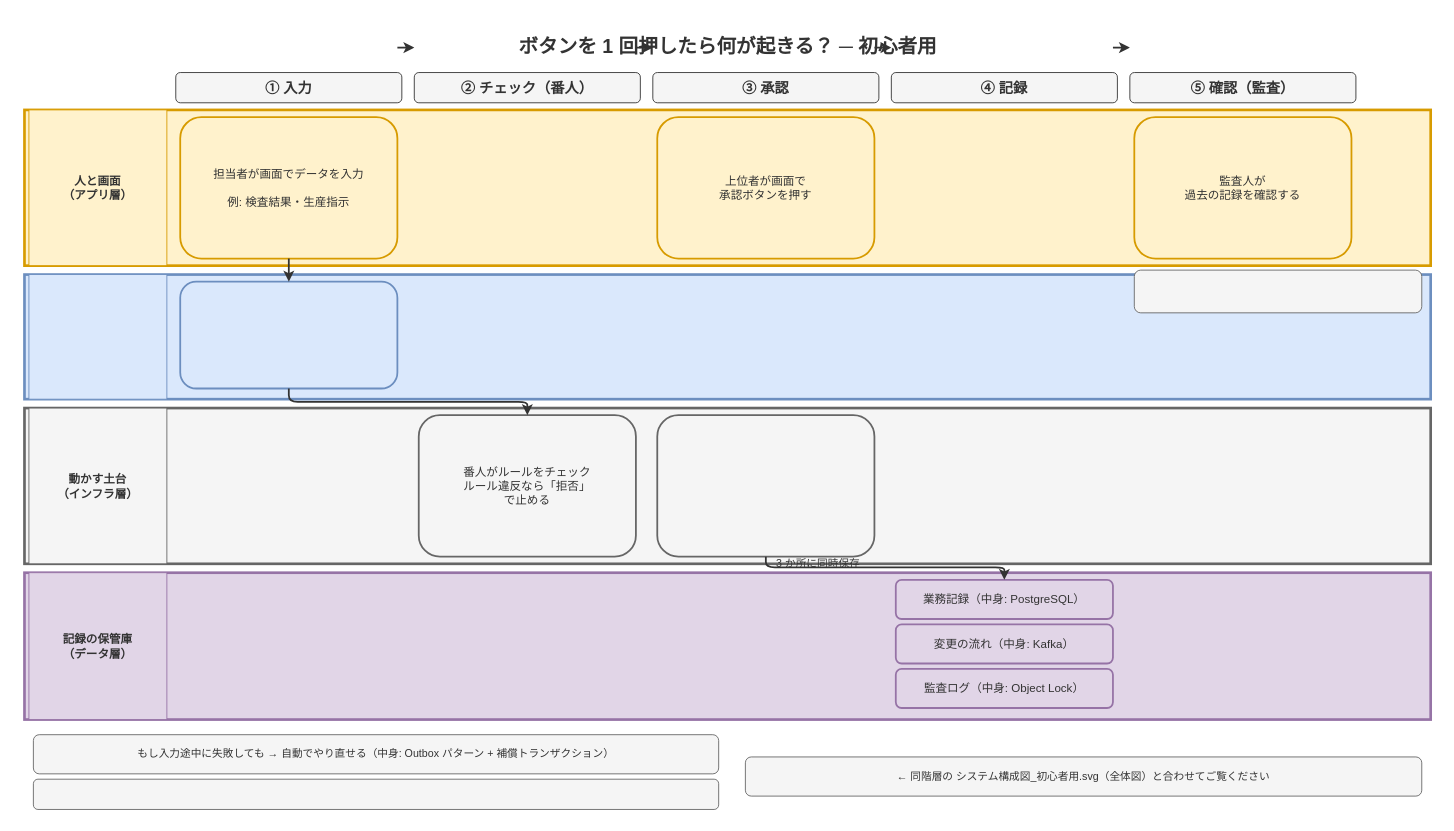
The diagram is 1454 pixels wide and 831 high, and some of its shapes have lost their labels. The shapes that lost their labels are listed below. From the top down, each one's centre as x and y in pixels, then its label:
the point at 1277,291: ⑤ 確認（監査）: 監査人は ④ の監査ログをいつでも読み取れる ─ 記録は変更・削除不可（中身: Object Lock / WORM）
the point at 97,336: 通信の入り口 （ネットワーク層）
the point at 288,334: 通信の入り口に届く （暗号化）
the point at 765,485: 業務ロジックが 処理する
the point at 375,793: もし通信が一時的に切れても → データは消えず自動で再送される（中身: at-least-once 配信）
